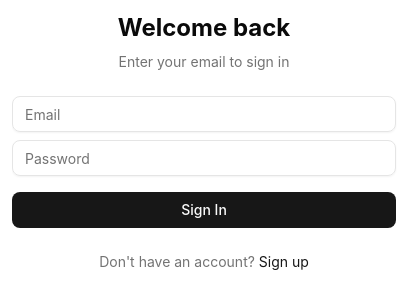
Test: AuthForm › toggles back to sign in mode
Click the button "Sign up" at (284, 262), box [259, 252, 309, 272]
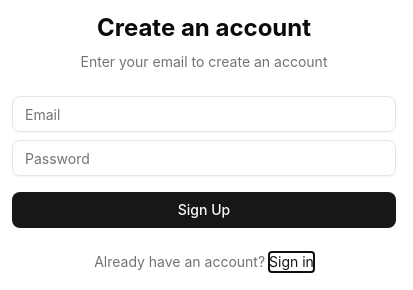
expect the heading "Create an account" is shown: met, box [97, 13, 311, 42]
Click the button "Sign in" at (291, 262), box [269, 252, 314, 272]
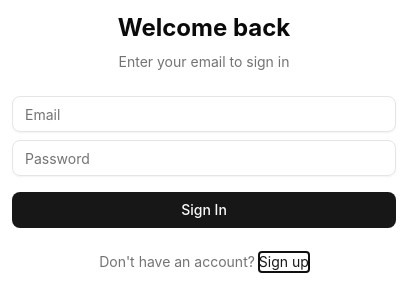
expect the heading "Welcome back" is shown: met, box [118, 13, 290, 42]
